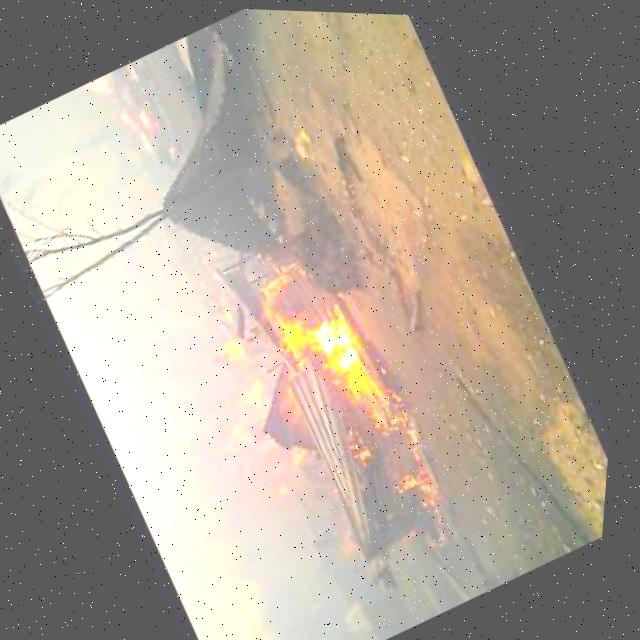Fire: (146, 240, 461, 587)
